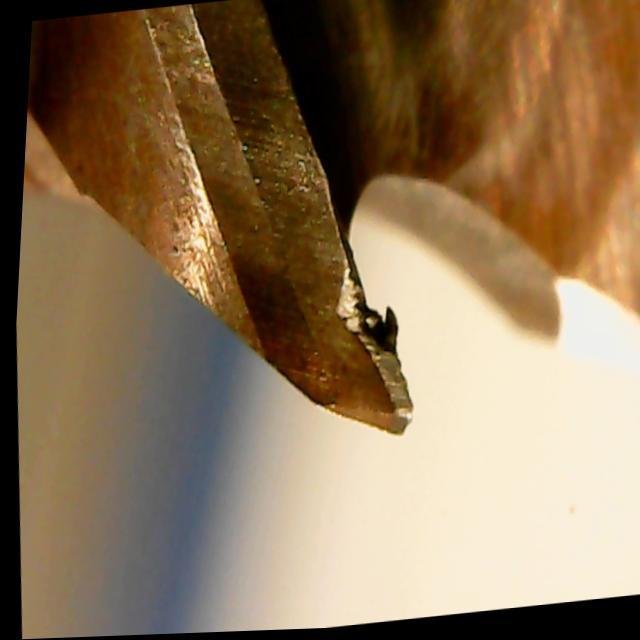Tool-wear-class-2: (205, 141, 456, 482)
